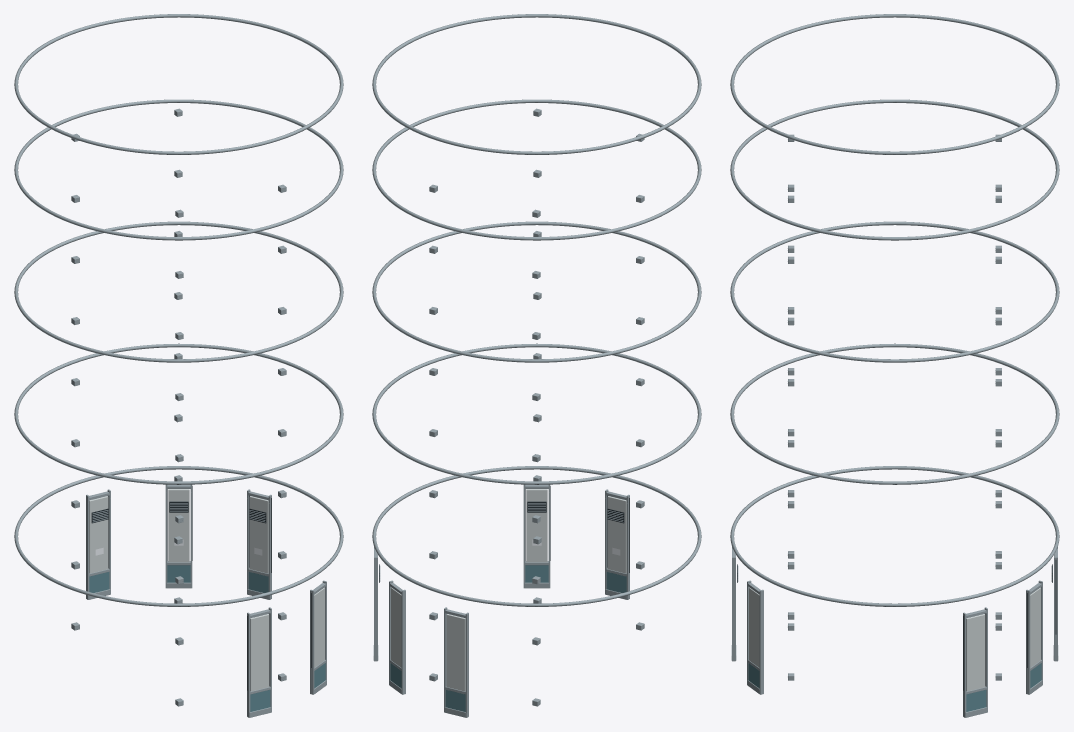
File: SF_VA_Interior.fbx
3 views of the same model, side by side, from view 1: azimuth 30°, elevation 25°; view 2: azimuth 150°, elevation 25°; view 3: azimuth 270°, elevation 25° (orthographic).
Parts seen in each view (by area): view 1: SF_VA_Interior; view 2: SF_VA_Interior; view 3: SF_VA_Interior.
Part boxes in pixels (left/top/right/bottom): SF_VA_Interior: left=14, top=14, right=343, bottom=717; SF_VA_Interior: left=372, top=14, right=701, bottom=717; SF_VA_Interior: left=730, top=14, right=1059, bottom=717.
Bounding box in the file's own units: 977 × 1876 × 977.
